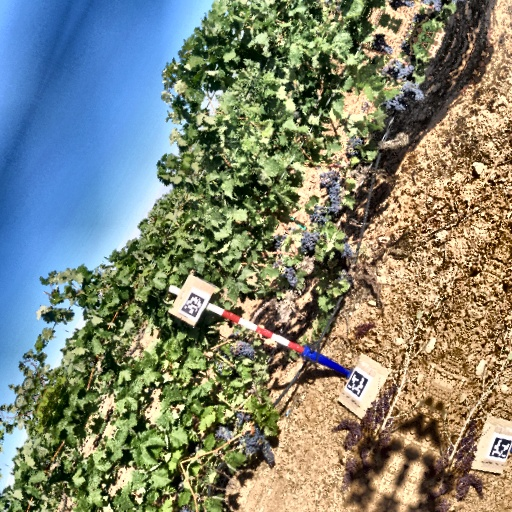QR: (178, 288, 208, 322), (344, 369, 371, 399)
